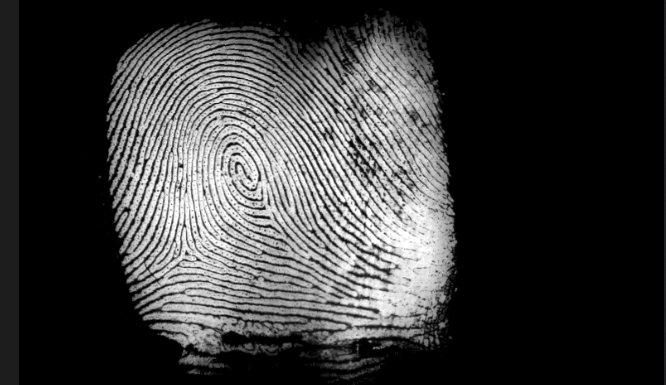nucelo: (225, 151, 257, 186)
verticilo: (171, 242, 199, 267), (259, 204, 275, 218)
